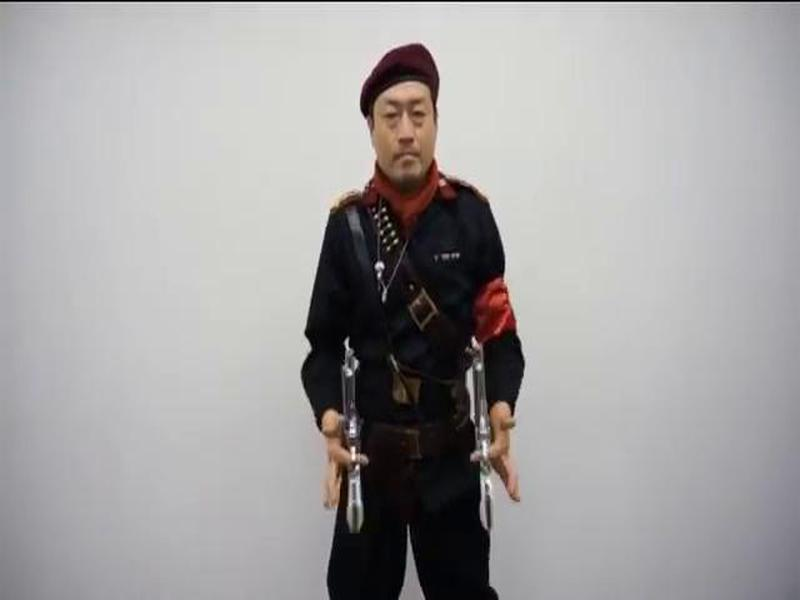Revolver: (447, 339, 515, 537), (325, 339, 383, 539)
